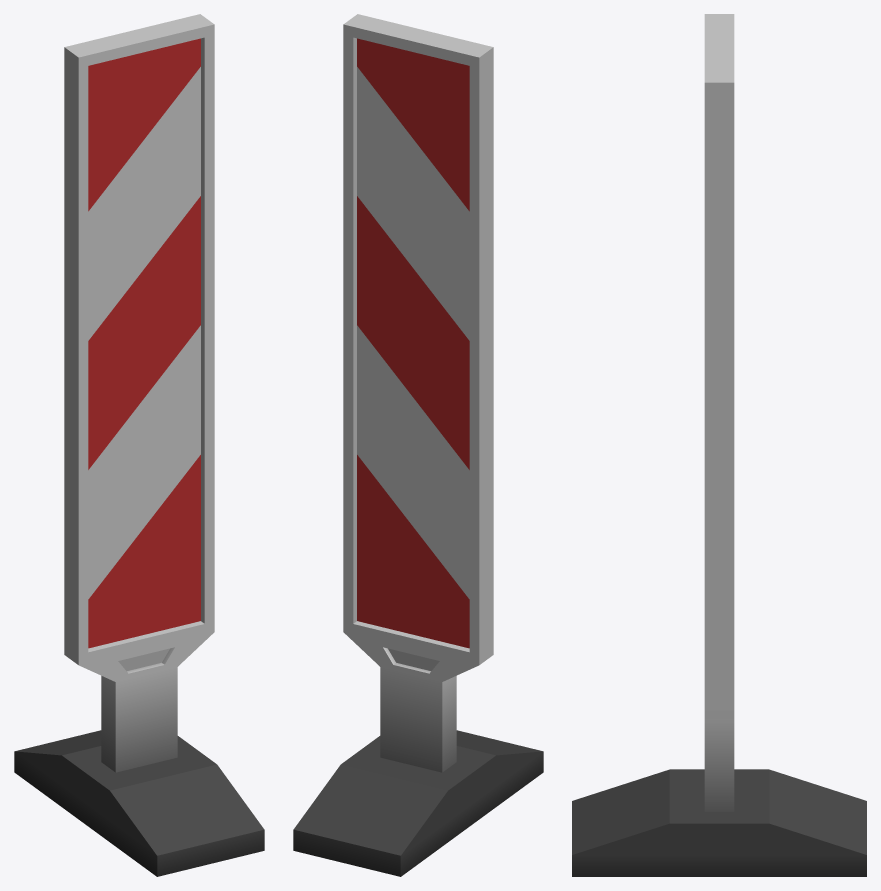
File: WorksMarkup.fbx
The picture shows the model from 3 angles, left to right: view 1: azimuth 30°, elevation 25°; view 2: azimuth 150°, elevation 25°; view 3: azimuth 270°, elevation 25°; orthographic projection. The views are drawn at different scales.
Visible parts, largest first — view 1: isl_WorksMarkup_01_DEF.obj; view 2: isl_WorksMarkup_01_DEF.obj; view 3: isl_WorksMarkup_01_DEF.obj.
Part boxes in pixels (x1,y1,x2,y2): isl_WorksMarkup_01_DEF.obj: [14, 14, 264, 876]; isl_WorksMarkup_01_DEF.obj: [293, 14, 543, 876]; isl_WorksMarkup_01_DEF.obj: [572, 14, 866, 876].
Bounding box in the file's own units: 27.5 × 150 × 50.
